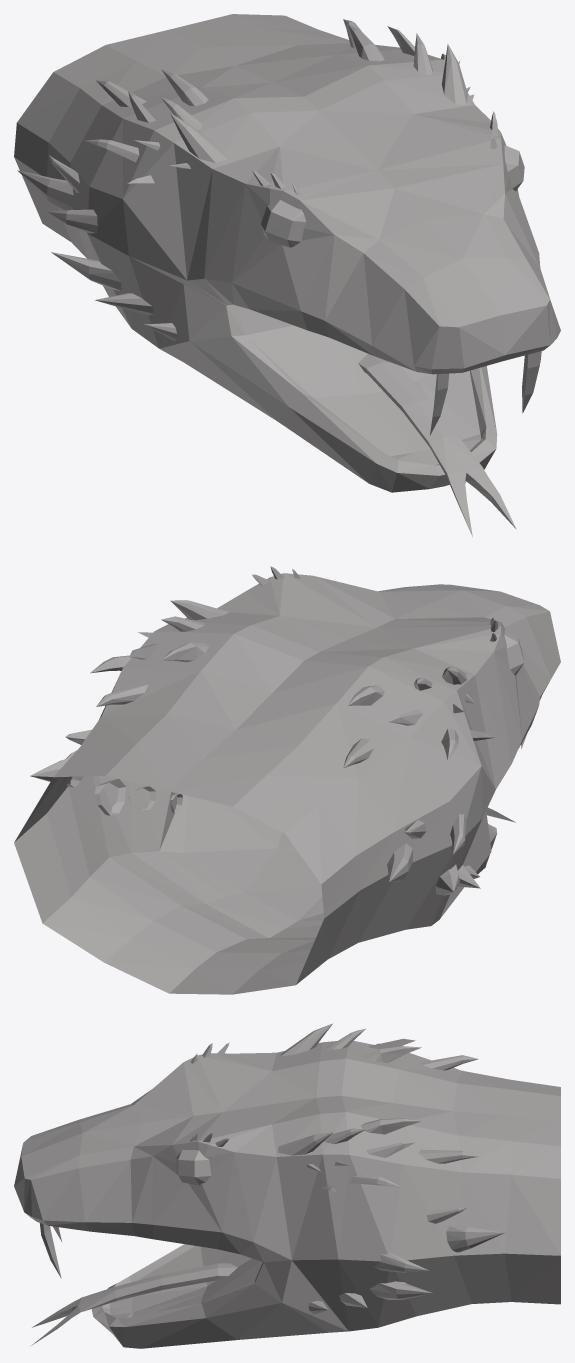
File: SnakeHeadTrapMetal.fbx
The picture shows the model from 3 angles, top to bottom: view 1: azimuth 30°, elevation 25°; view 2: azimuth 150°, elevation 25°; view 3: azimuth 270°, elevation 25°; orthographic projection. The views are drawn at different scales.
Visible parts, largest first — view 1: SnakeHeadTrapMetal; view 2: SnakeHeadTrapMetal; view 3: SnakeHeadTrapMetal.
Part boxes in pixels (x1,y1,x2,y2): SnakeHeadTrapMetal: (14,14,560,537); SnakeHeadTrapMetal: (14,566,560,994); SnakeHeadTrapMetal: (14,1023,560,1348).
Size of the model in its own units: 47.05 by 35.98 by 68.22.
